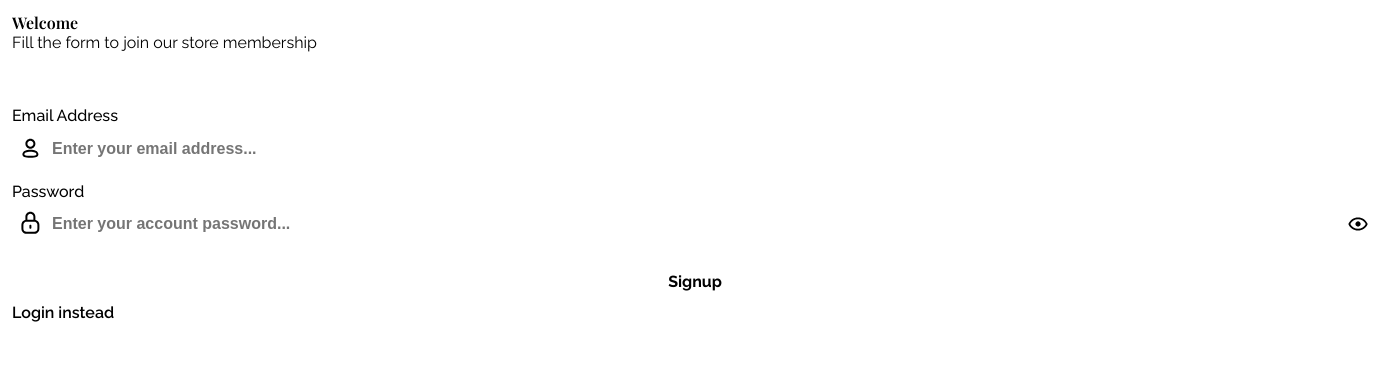
Test: Test Component : Signupform › if password has 4 or less character show error
Type "123" into the password field with test id "signupformPasswordInput".
click(695, 224); type("123")  # box [12,207,1378,241]
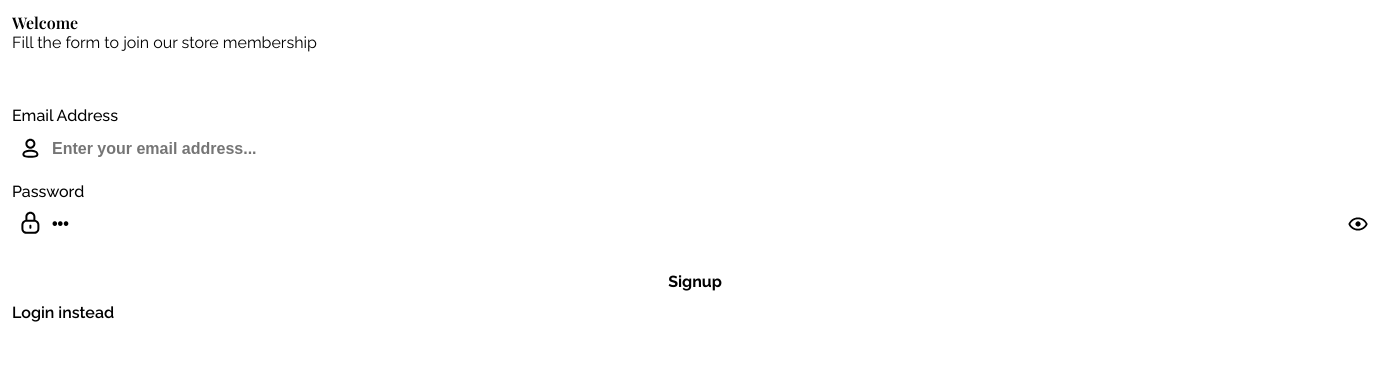
Type "sdwqd@gmail.com" into the field with test id "signupformEmailInput".
click(695, 149); type("sdwqd@gmail.com")  # box [12,132,1378,166]
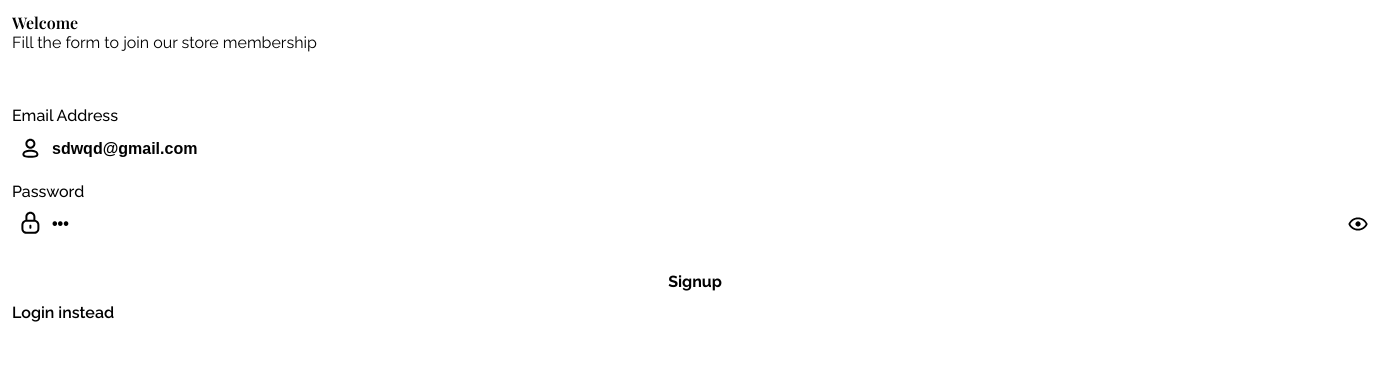
Click the button with test id "signupformSignupButton".
click(695, 281)  # box [12,265,1378,297]
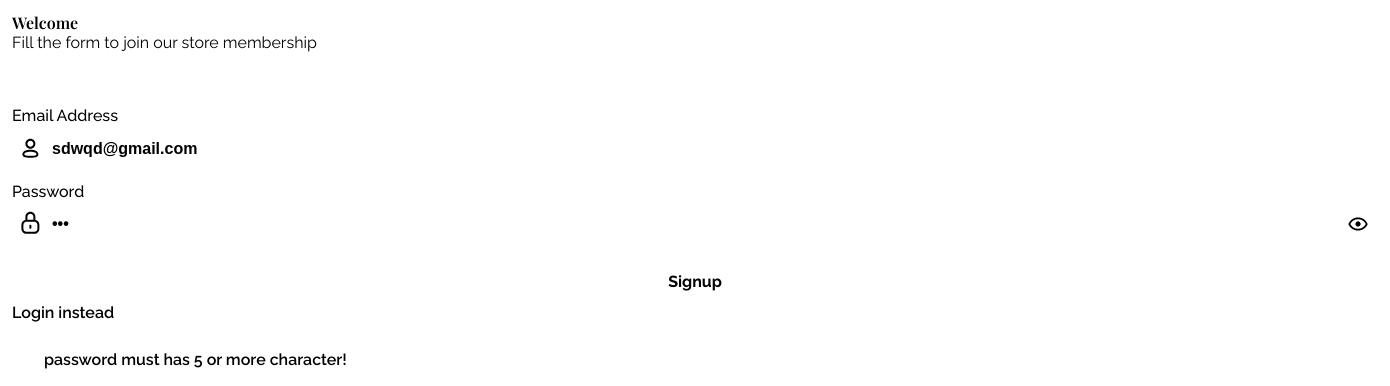
Expected: the element with test id "errorMessage" reads "password must has 5 or more character!", [44,350,347,368]
